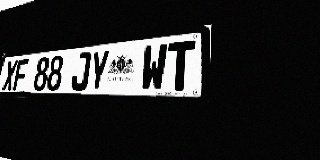8: (45, 55, 65, 90), (32, 56, 51, 90)
F: (12, 59, 29, 90)
J: (70, 52, 92, 90)
T: (165, 40, 196, 91)
W: (140, 43, 168, 91)
X: (2, 60, 18, 90)
Y: (87, 50, 110, 91)
